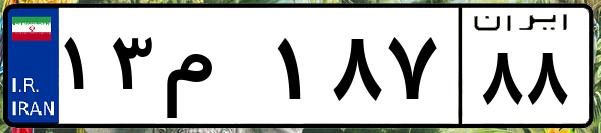1: (270, 28, 330, 110), (57, 26, 110, 100)
3: (110, 28, 158, 98)
7: (385, 28, 445, 110)
8: (330, 28, 385, 110), (475, 38, 525, 113), (525, 38, 570, 115)
م: (158, 20, 270, 120)
